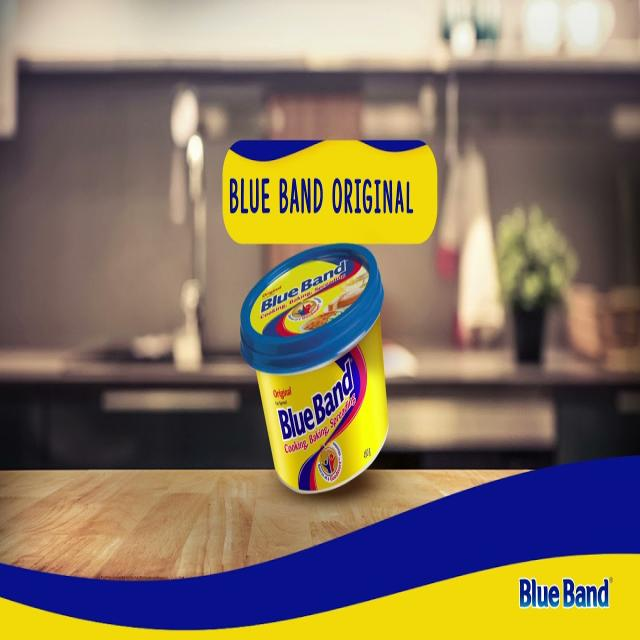butter: (239, 243, 389, 494)
